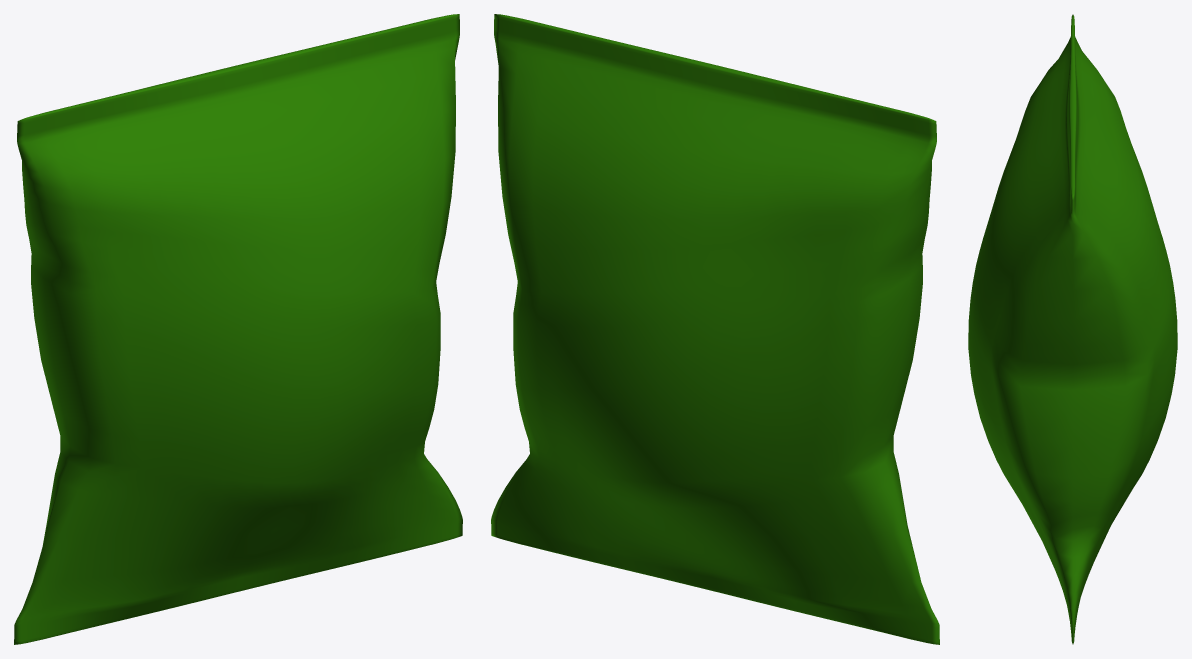
The model's file is Pea BAg.fbx.
The picture shows the model from 3 angles, left to right: view 1: azimuth 30°, elevation 25°; view 2: azimuth 150°, elevation 25°; view 3: azimuth 270°, elevation 25°; orthographic projection. The views are drawn at different scales.
Parts seen in each view (by area): view 1: Peas_Smooth; view 2: Peas_Smooth; view 3: Peas_Smooth.
Part boxes in pixels (x1,y1,x2,y2): Peas_Smooth: [14, 14, 462, 644]; Peas_Smooth: [491, 14, 939, 644]; Peas_Smooth: [968, 14, 1177, 644].
Size of the model in its own units: 3.23 by 3.61 by 1.53.
